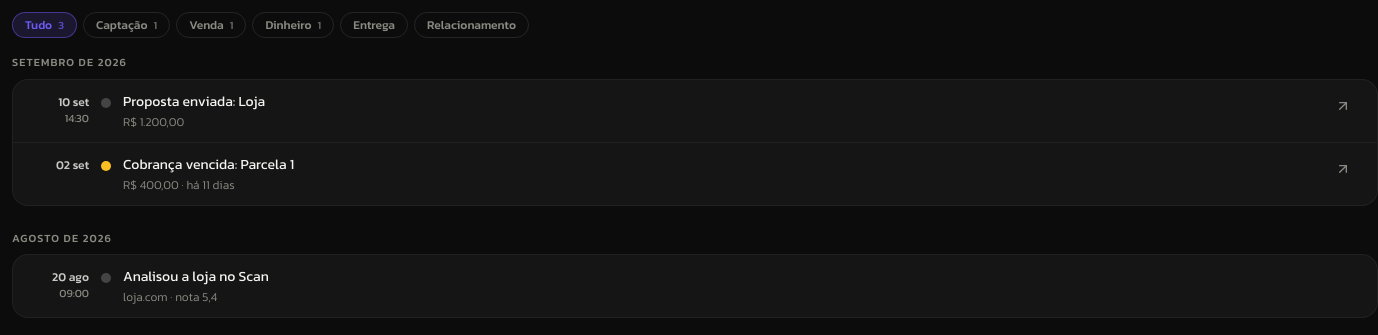
LinhaDoTempo › os filtros contam e filtram por grupo
Click the tab "Dinheiro1". click: coordinates (293, 25)
box: [252, 12, 334, 38]
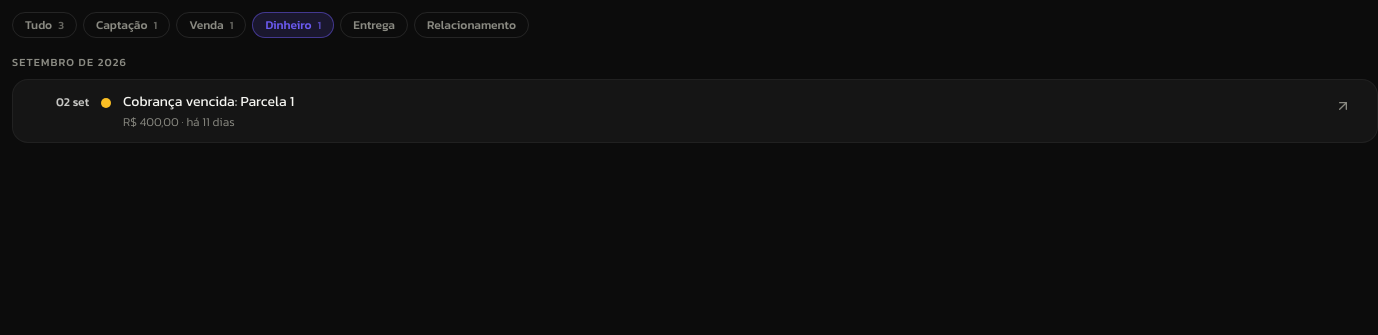
Expected: the text "Cobrança vencida: Parcela 1" is shown, [123, 90, 294, 112]
Now the text "Proposta enviada: Loja" is gone
Click the tab "Relacionamento". click: coordinates (472, 25)
box: [414, 12, 529, 38]
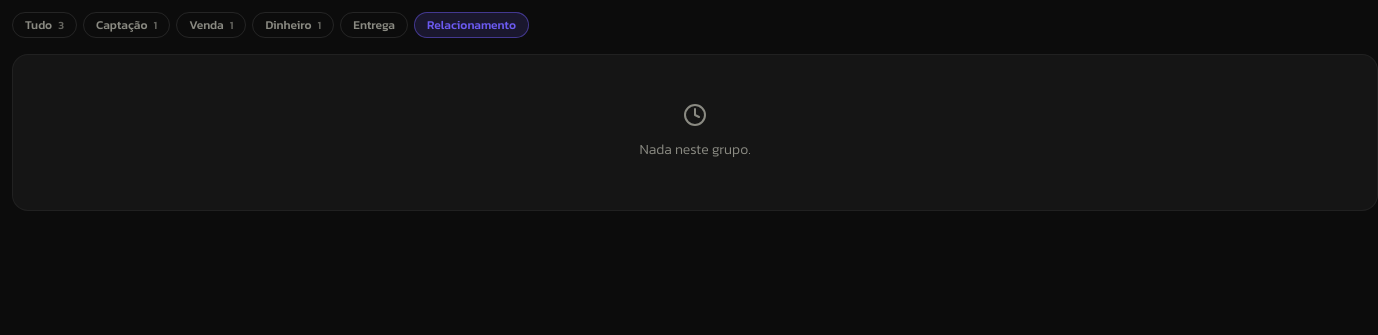
Now the text "Nada neste grupo." is shown, box [639, 139, 751, 162]
